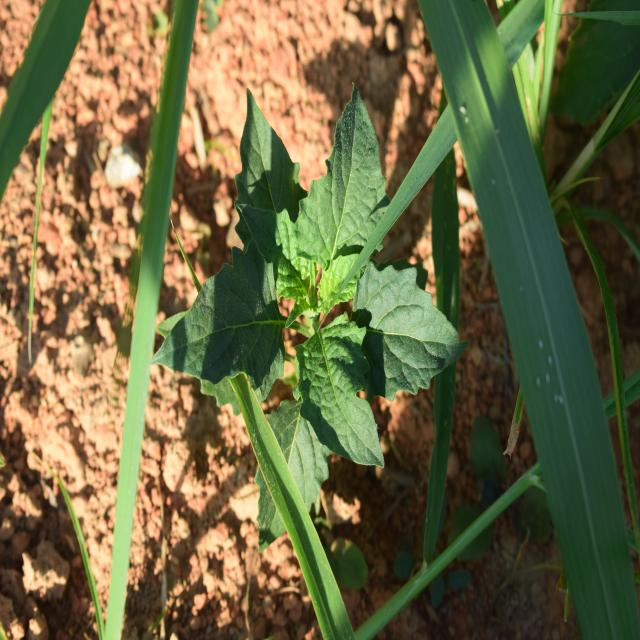Black_nightshade: (195, 99, 432, 489)
